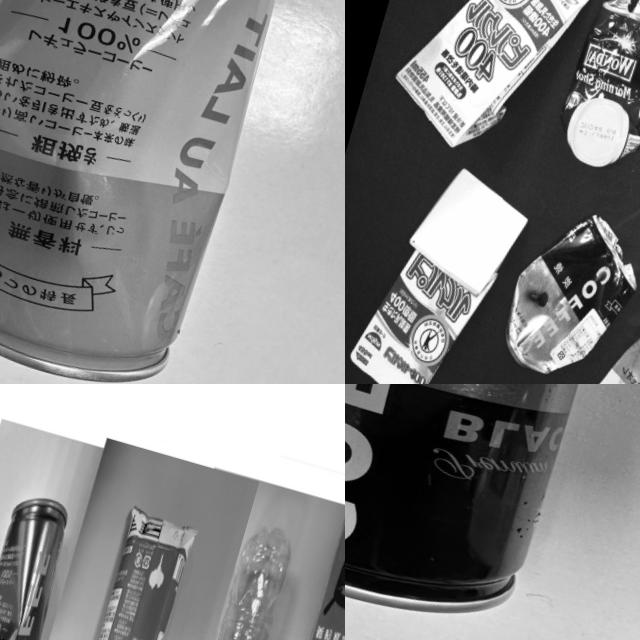Aluminium Foil: (345, 154, 531, 384), (376, 0, 607, 171), (50, 501, 199, 640), (222, 494, 345, 640)
Can: (0, 0, 295, 384), (345, 384, 640, 640), (491, 199, 640, 384), (543, 0, 640, 181), (0, 491, 80, 640)
Transparent Plastic Bottle: (142, 517, 302, 640)
